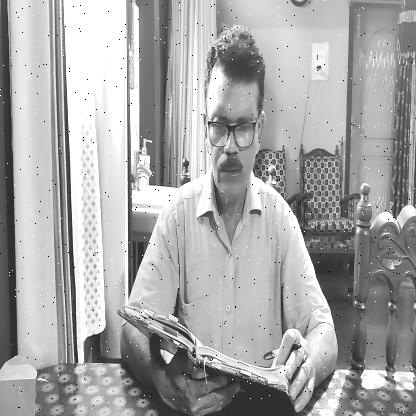Normal: (204, 29, 268, 204)
